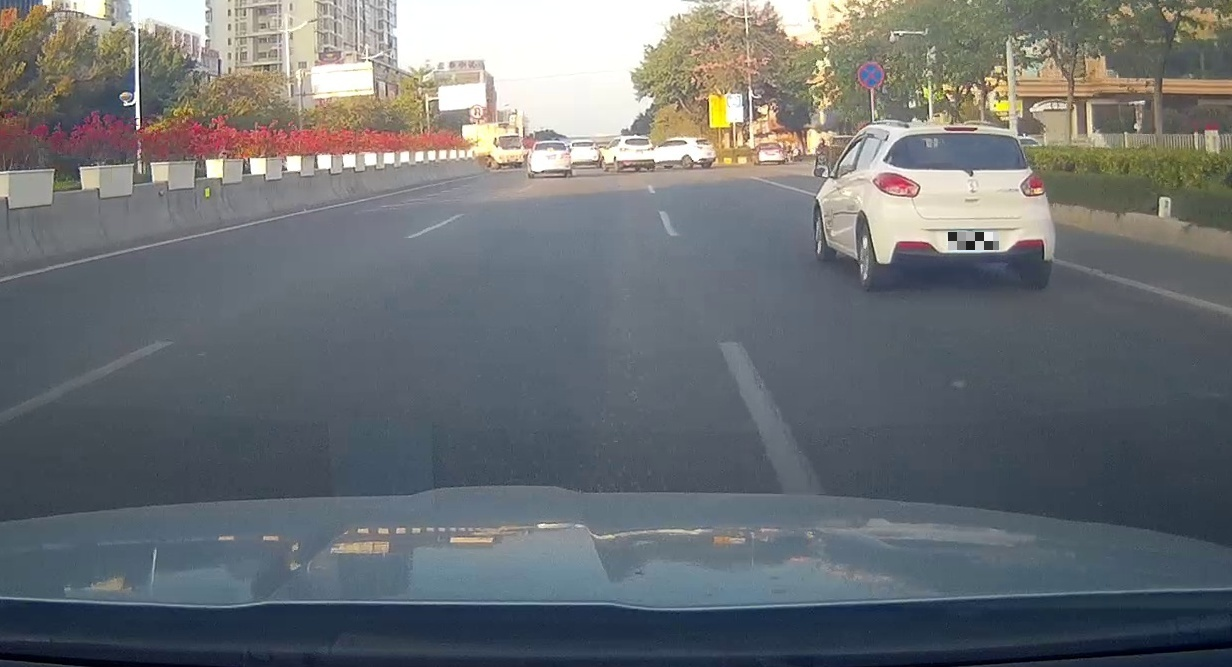L_light: (871, 172, 921, 198)
R_light: (1020, 172, 1046, 197)
T_light: (943, 127, 978, 132)
day-right: (867, 120, 1055, 290)
plate_1: (948, 232, 999, 250)
